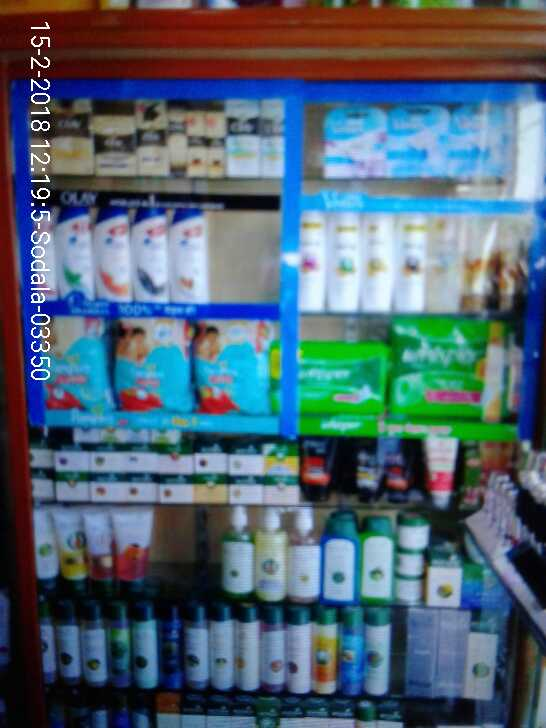venus: (321, 106, 394, 174), (452, 105, 514, 174), (394, 106, 452, 174)
